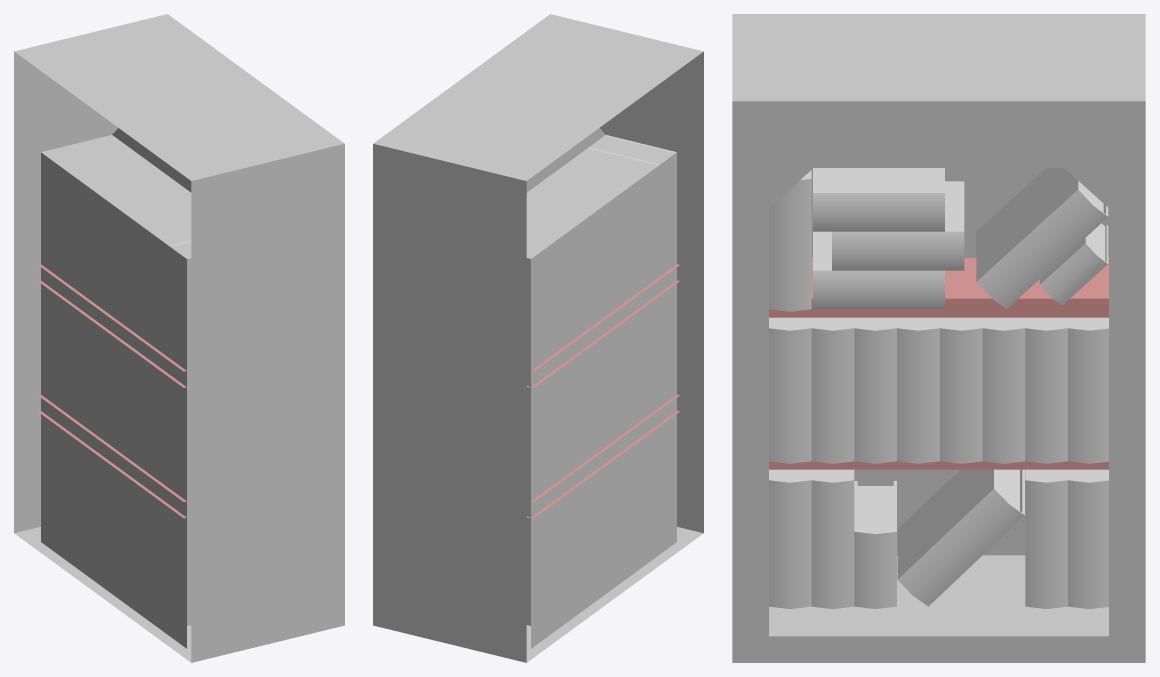
The model's file is Shkaf BIG.fbx.
The picture shows the model from 3 angles, left to right: view 1: azimuth 30°, elevation 25°; view 2: azimuth 150°, elevation 25°; view 3: azimuth 270°, elevation 25°; orthographic projection. The views are drawn at different scales.
Visible parts, largest first — view 1: STRONG Base Model.228; view 2: STRONG Base Model.228; view 3: STRONG Base Model.228.
Part boxes in pixels (bbox=[...]): STRONG Base Model.228: bbox=[14, 14, 344, 662]; STRONG Base Model.228: bbox=[373, 14, 703, 662]; STRONG Base Model.228: bbox=[732, 14, 1145, 662].
Size of the model in its own units: 21.69 by 65.08 by 43.39.
